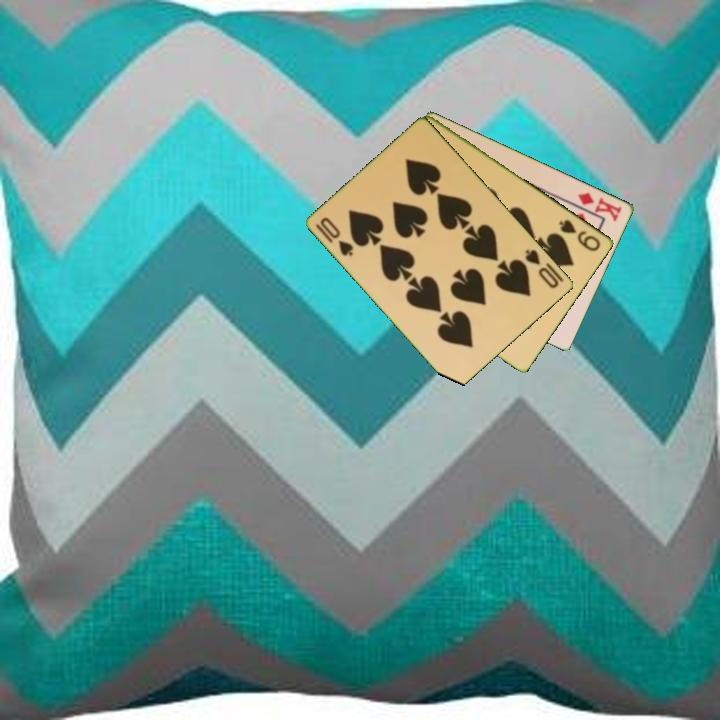10s: (312, 214, 357, 259), (522, 246, 562, 291)
9s: (556, 216, 604, 254)
Kd: (575, 188, 625, 224)
